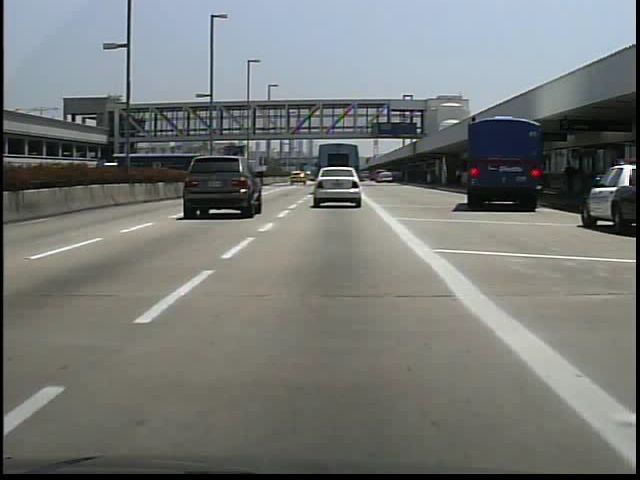person: (561, 156, 581, 206)
